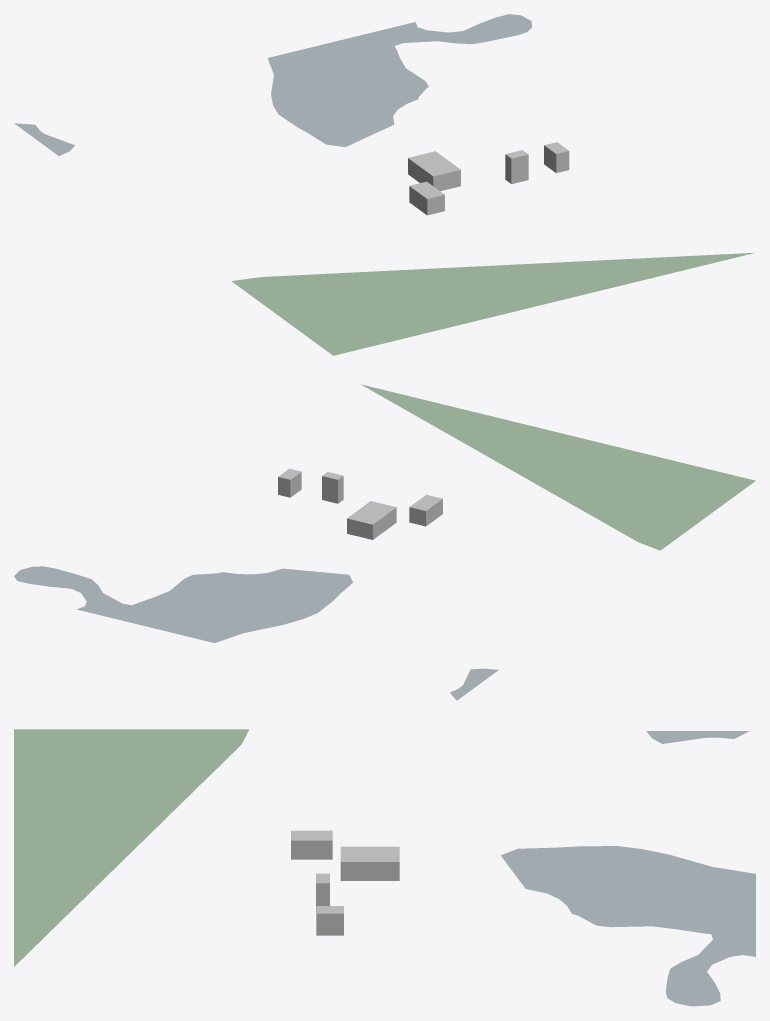
The model's file is 134_113_mid.glb.
The picture shows the model from 3 angles, top to bottom: view 1: azimuth 30°, elevation 25°; view 2: azimuth 150°, elevation 25°; view 3: azimuth 270°, elevation 25°; orthographic projection. The views are drawn at different scales.
Size of the model in its own units: 441 by 23.16 by 500.
